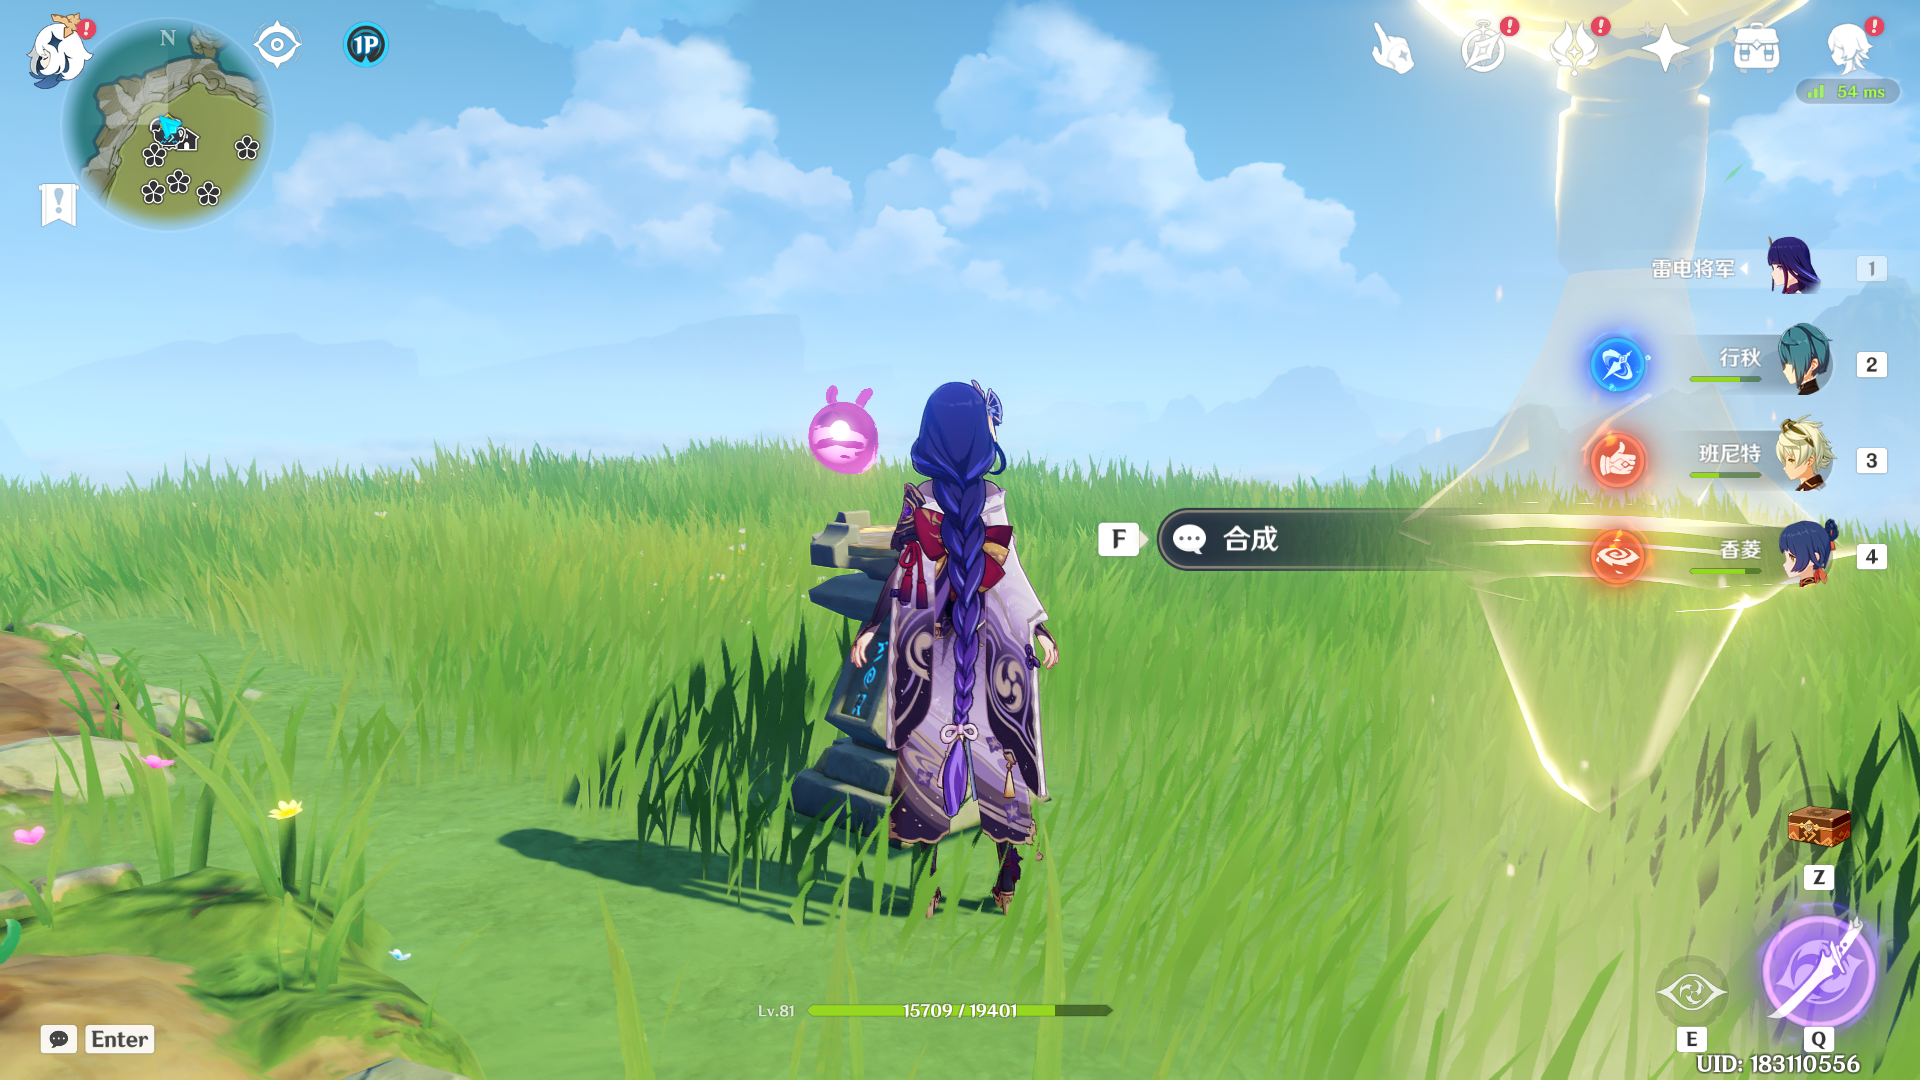character: (823, 360, 1106, 969)
